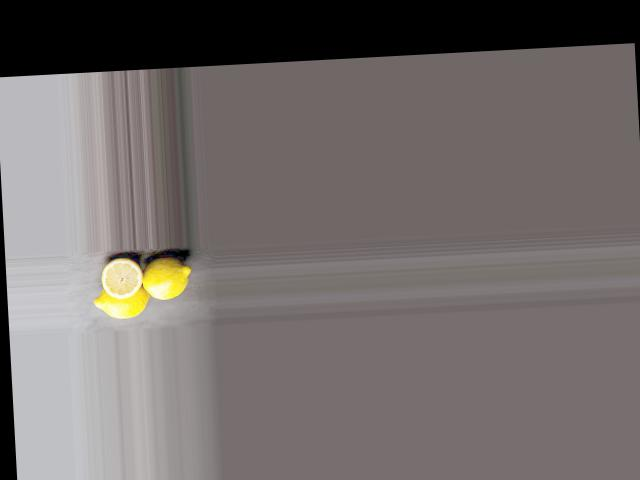lemon: (89, 282, 151, 324)
